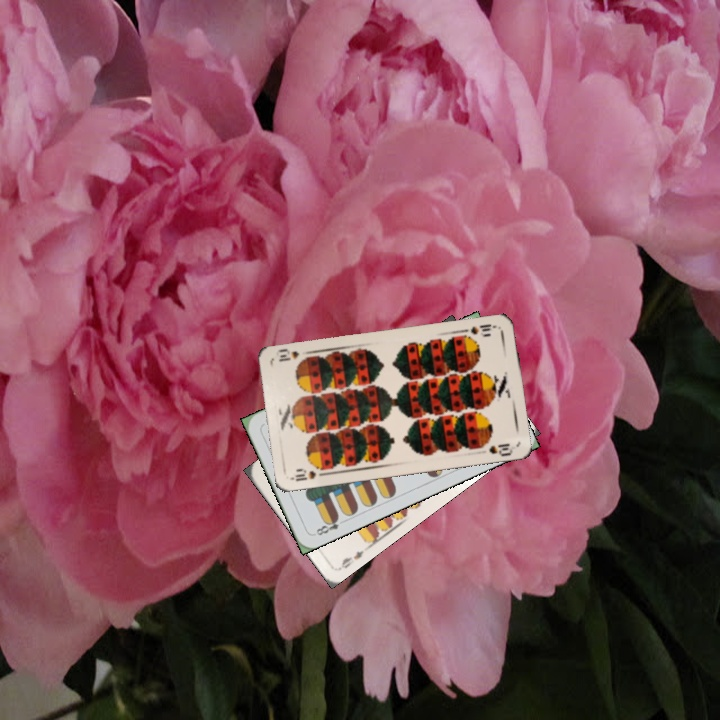E8: (310, 511, 348, 538)
E9: (335, 546, 366, 572)
S10: (289, 465, 329, 484), (466, 320, 499, 339)
